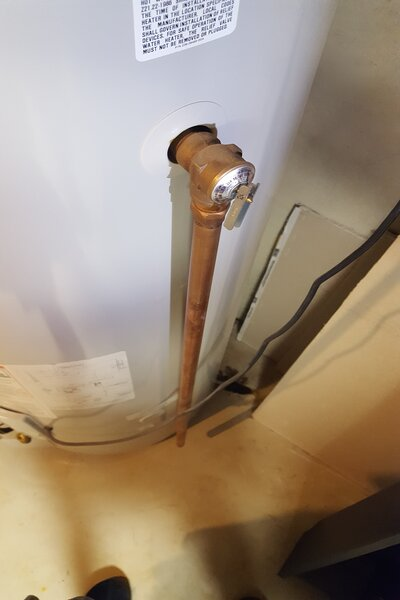valve: (170, 125, 263, 240)
